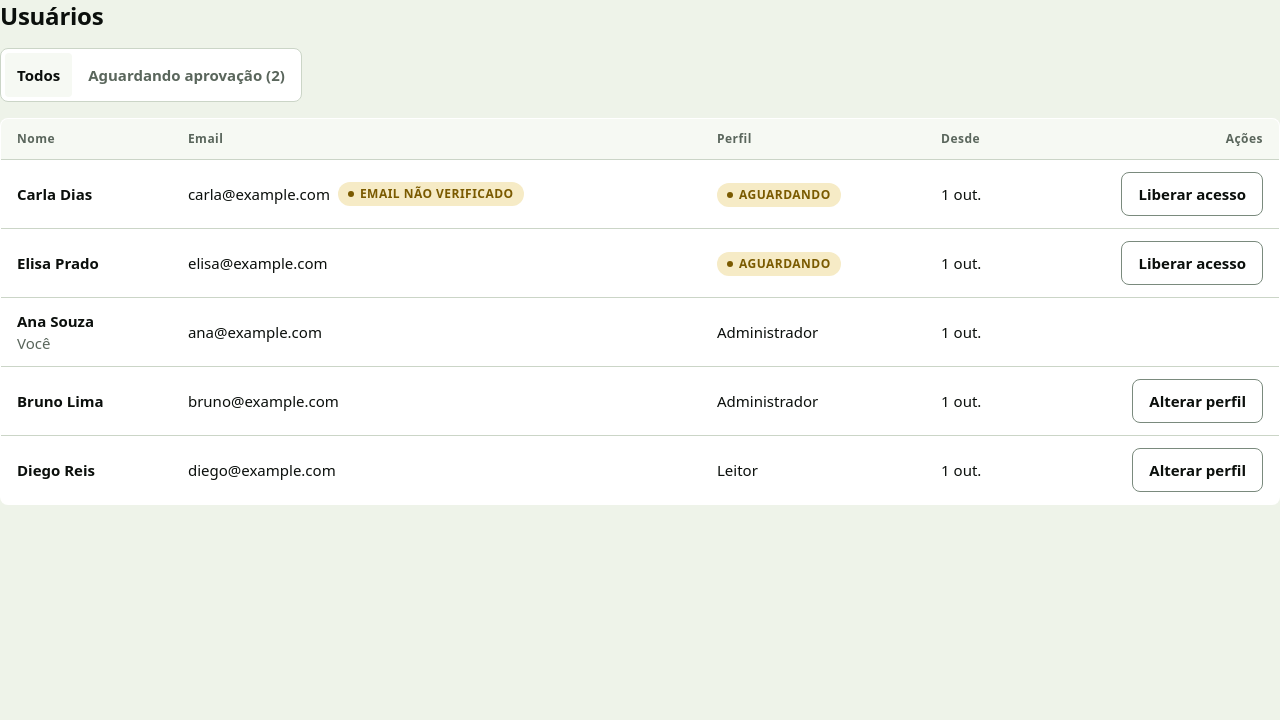
Test: UsersPage › keeps the dialog open with the LAST_ADMIN message
The image size is (1280, 720).
Click the button with aria-label "Alterar perfil de Bruno Lima" at {"x": 1198, "y": 401}, box [1132,379,1263,423]
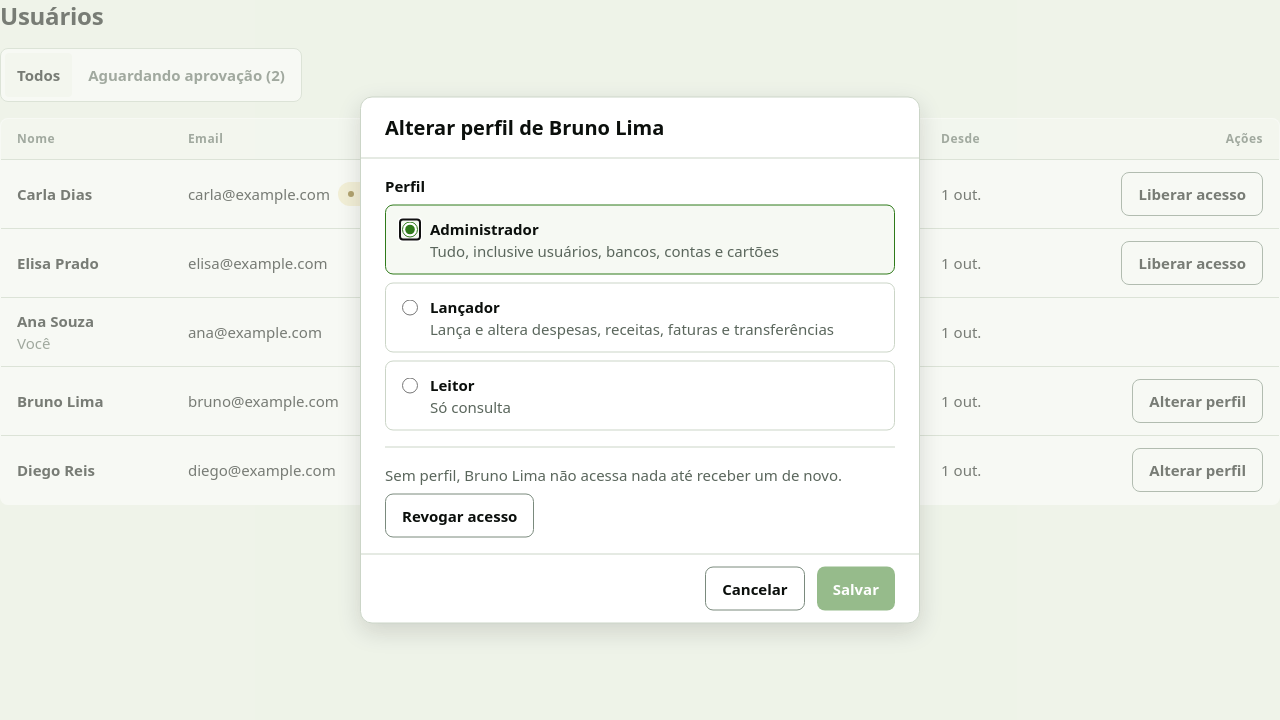
Click the radio button labelled "Leitor Só consulta" at {"x": 410, "y": 386}, box [402,378,418,394]
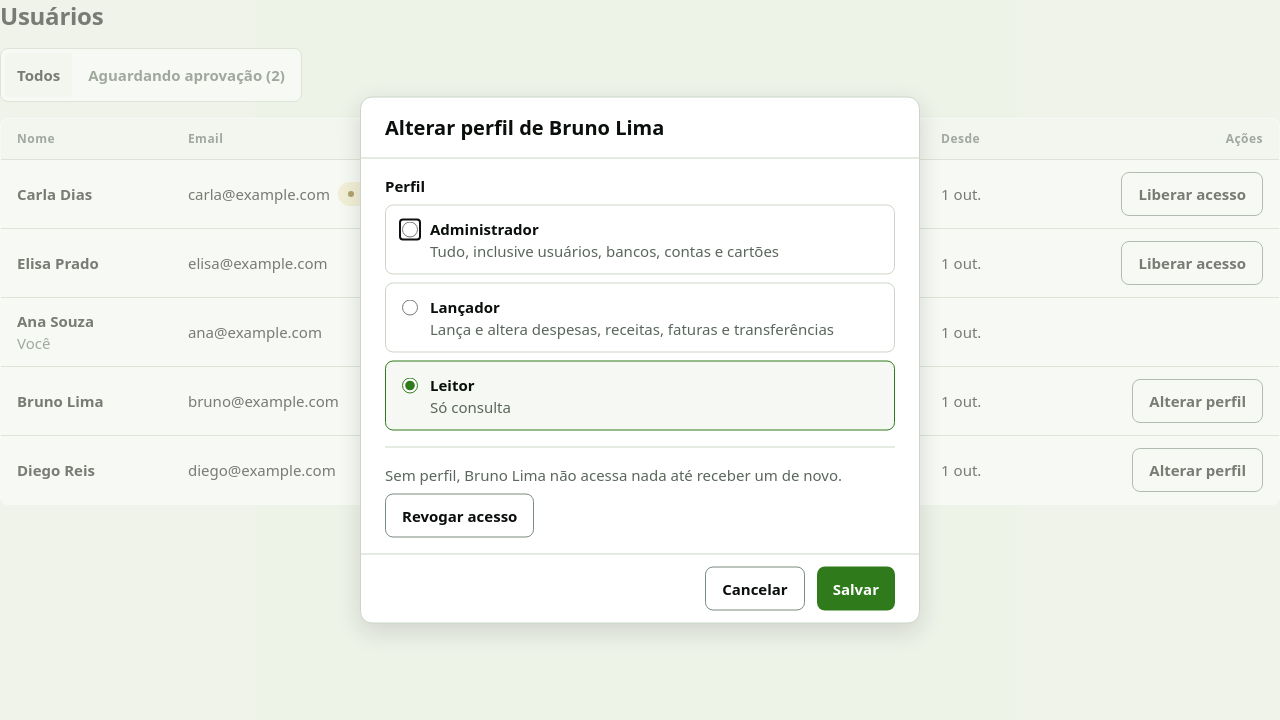
Click the button "Salvar" at {"x": 856, "y": 588}, box [817,566,895,610]
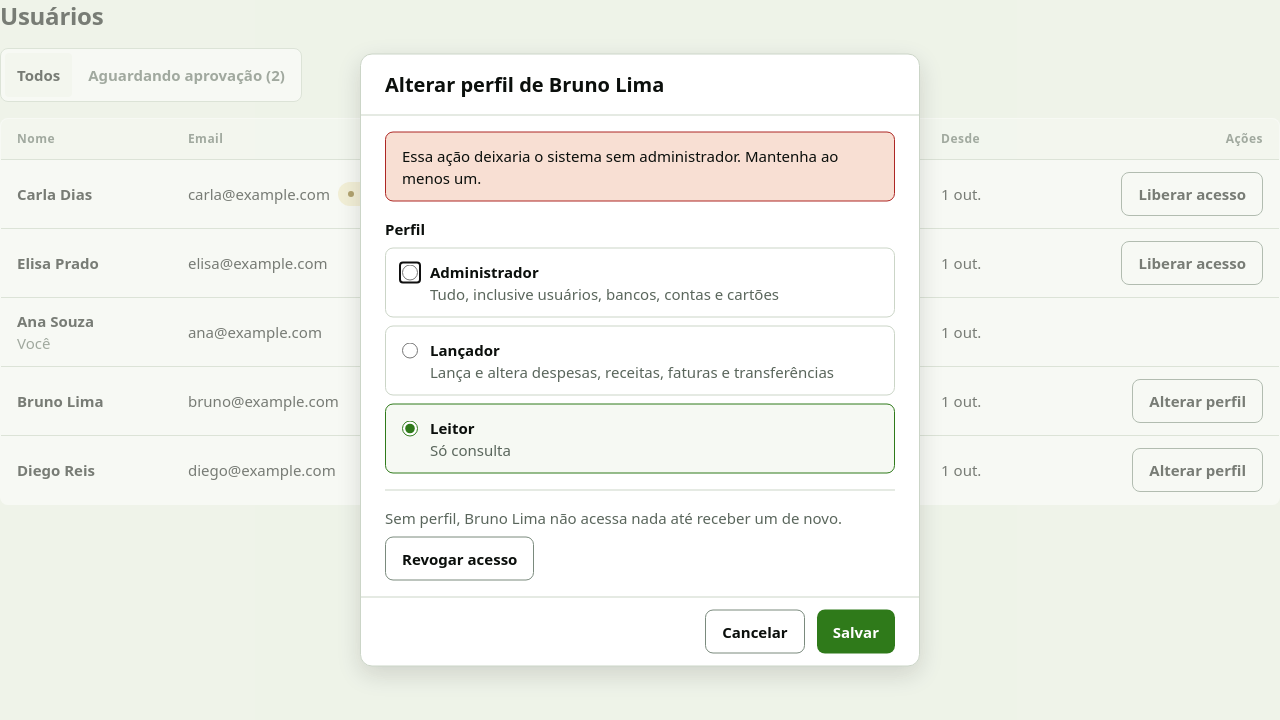
Expected: the text "Administrador" is shown, [701,366,925,436]
Expected: the dialog "Alterar perfil de Bruno Lima" is shown, [360,54,920,666]
Expected: the message reads "Essa ação deixaria o sistema sem administrador. Mantenha ao menos um.", [402,146,838,188]
